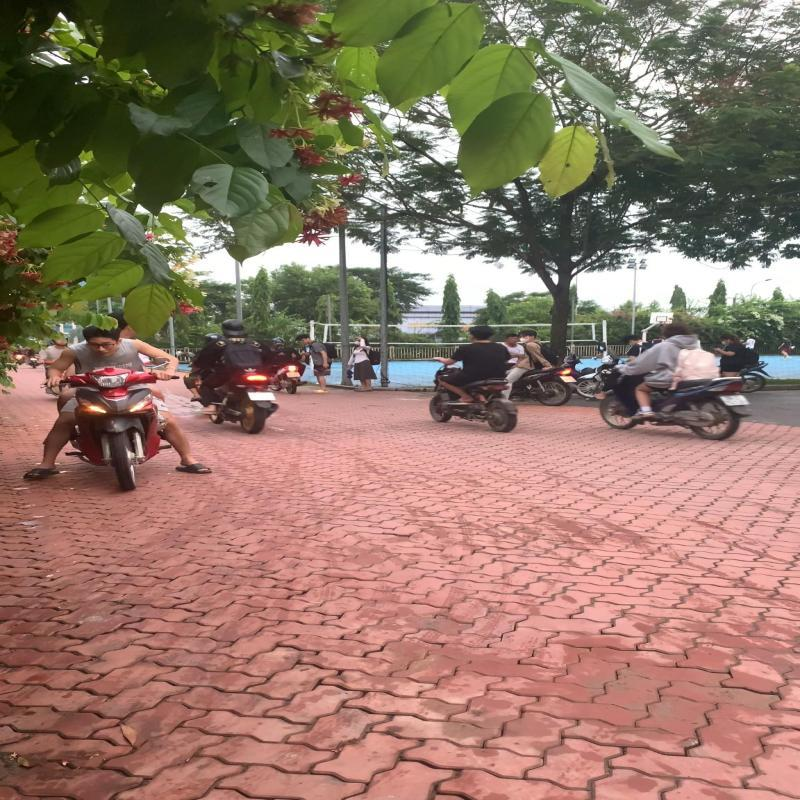licenseplate: (720, 394, 752, 407)
motorcyclist: (596, 321, 755, 441)
nohelmet: (660, 321, 692, 339)
